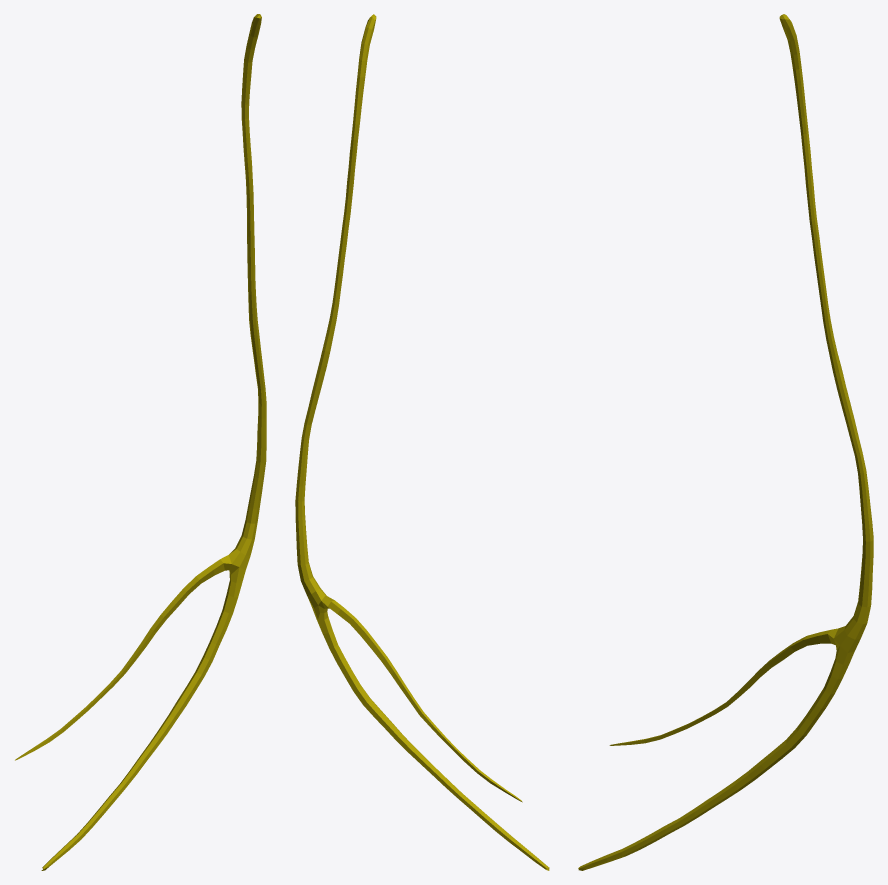
File: Glossopharyngeal_nerve_R.glb
3 views of the same model, side by side, from view 1: azimuth 30°, elevation 25°; view 2: azimuth 150°, elevation 25°; view 3: azimuth 330°, elevation 25° (orthographic). The views are drawn at different scales.
Parts seen in each view (by area): view 1: Glossopharyngeal_nerve_R; view 2: Glossopharyngeal_nerve_R; view 3: Glossopharyngeal_nerve_R.
Boxes of the visible parts, x1=… form: Glossopharyngeal_nerve_R: x1=15, y1=14, x2=266, y2=870; Glossopharyngeal_nerve_R: x1=295, y1=14, x2=549, y2=870; Glossopharyngeal_nerve_R: x1=578, y1=14, x2=873, y2=870.
Size of the model in its own units: 0.0865 by 0.2796 by 0.0291.
Materials: 1 (1 with a texture image).
